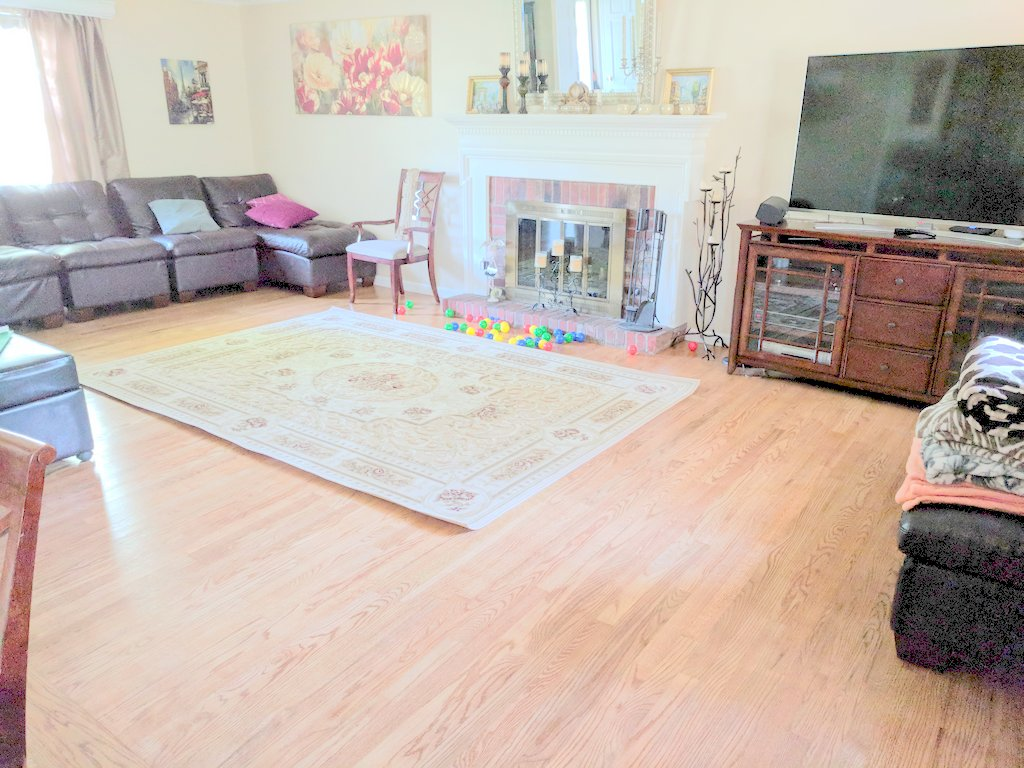ball: (451, 323, 460, 331)
